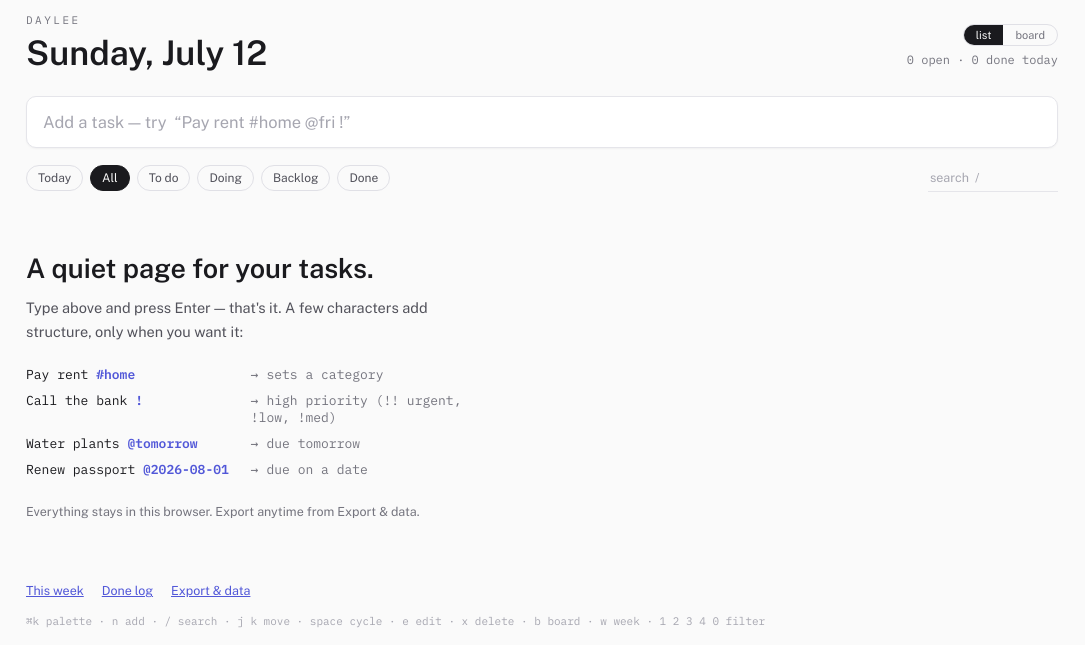
Test: status cycle › cycles todo → doing → done → todo and persists
Click the field labelled "Add a task" at (542, 122), box [26,96,1058,148]
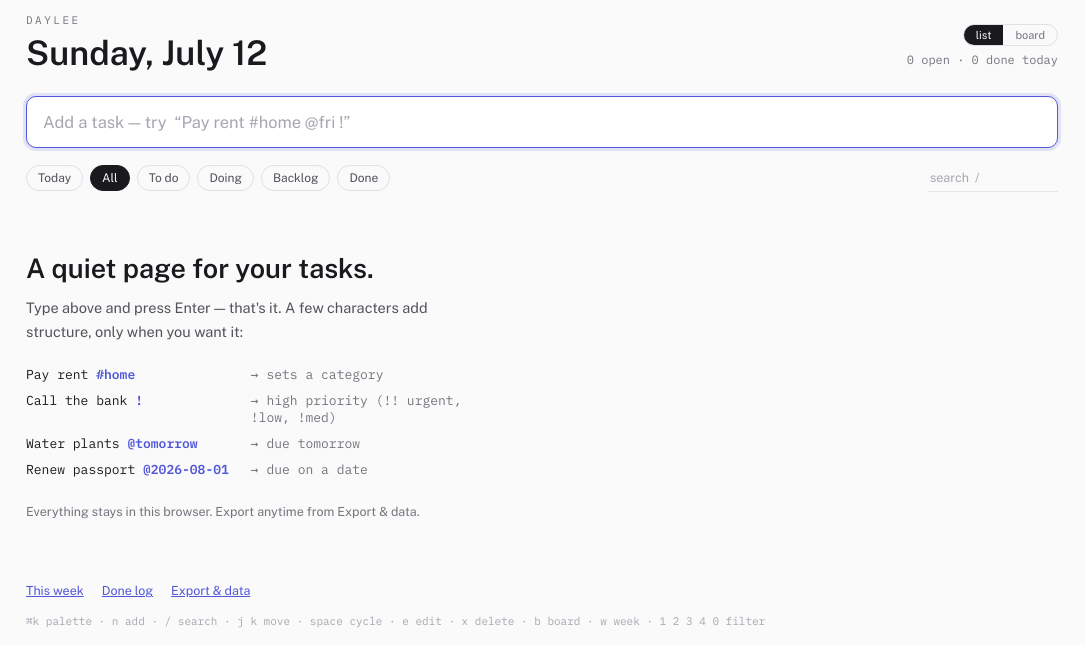
Type keys "Water plants{Enter}"
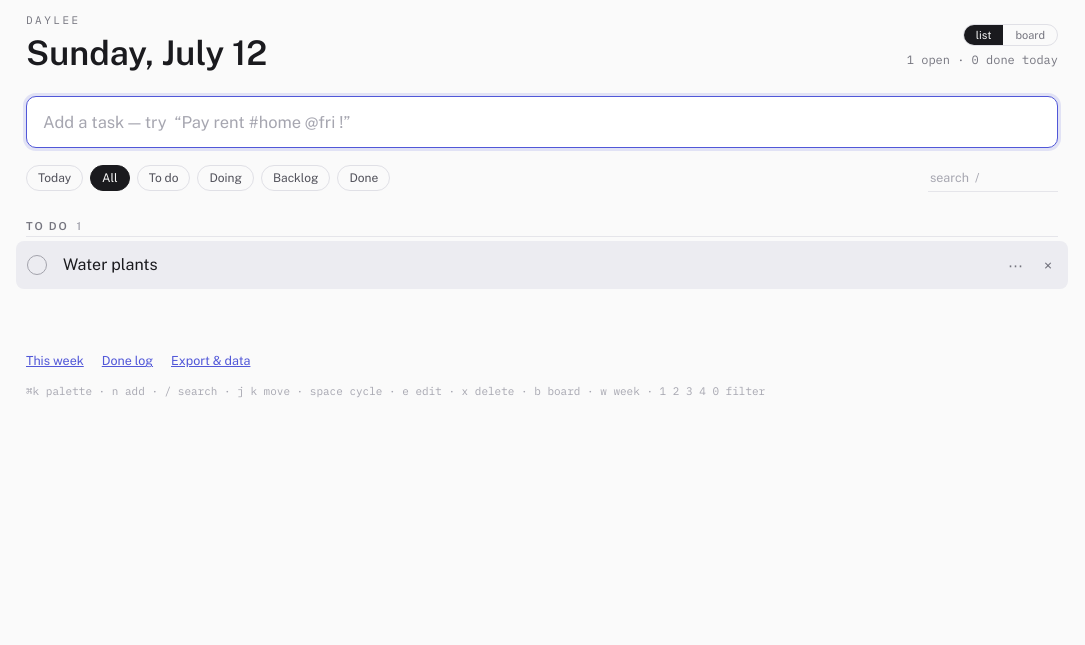
Click the button named "todo — click to mark doing" at (37, 265), box [20,248,54,282]
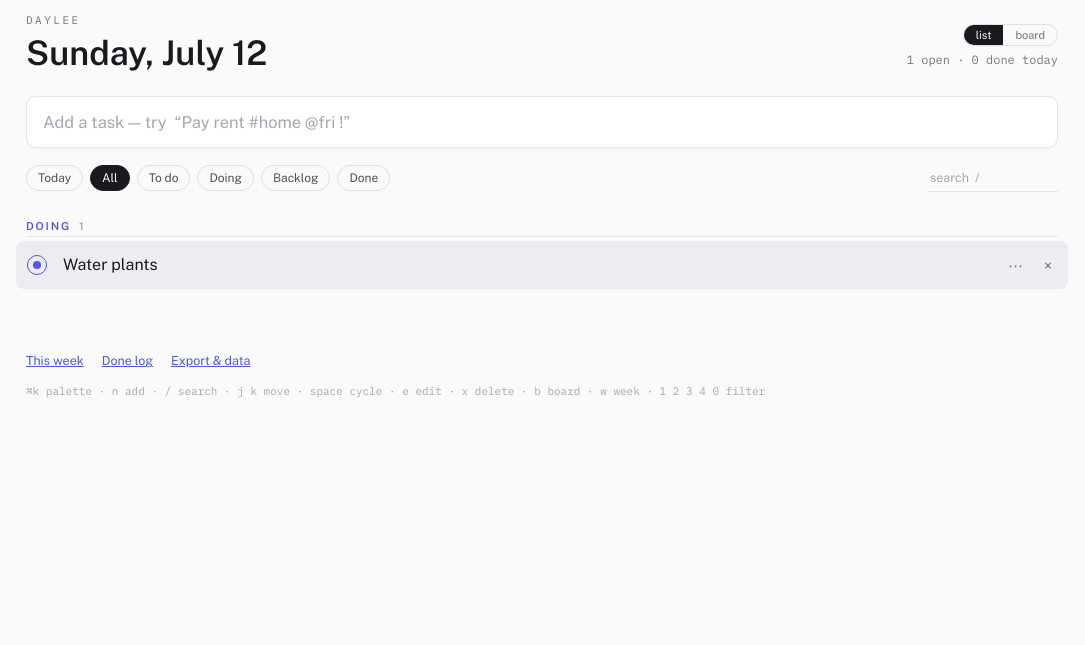
Check: the element "Doing" is shown, box [26,220,1058,289]
Click the button named "doing — click to mark done" at (37, 265), box [20,248,54,282]
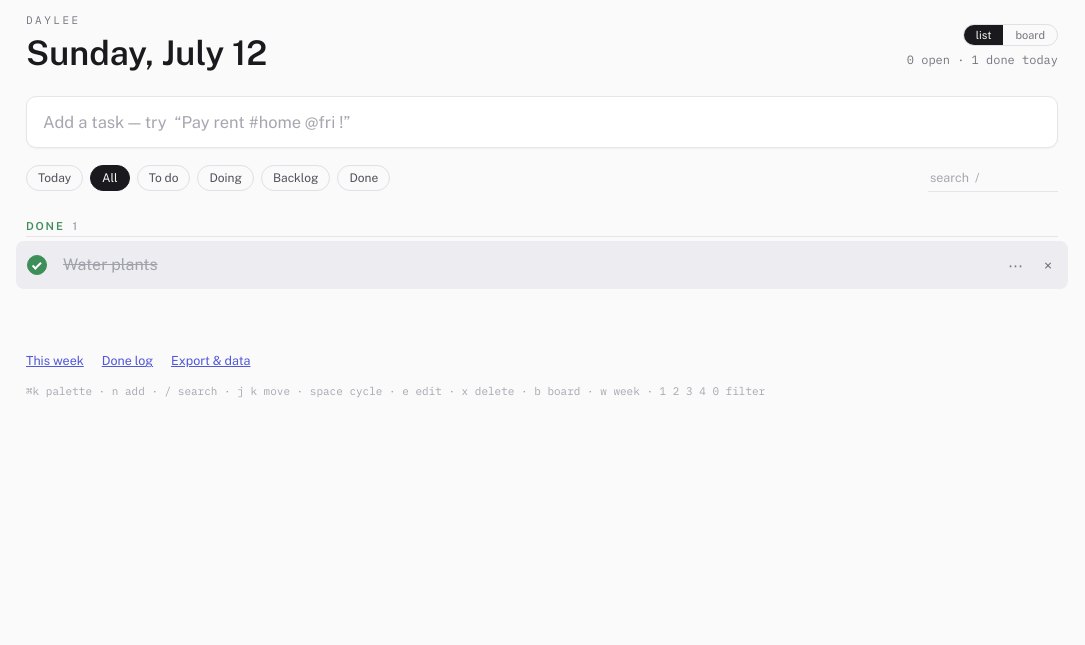
Check: the element "Done" is shown, box [26,220,1058,289]
Click the button named "done — click to mark to do" at (37, 265), box [20,248,54,282]
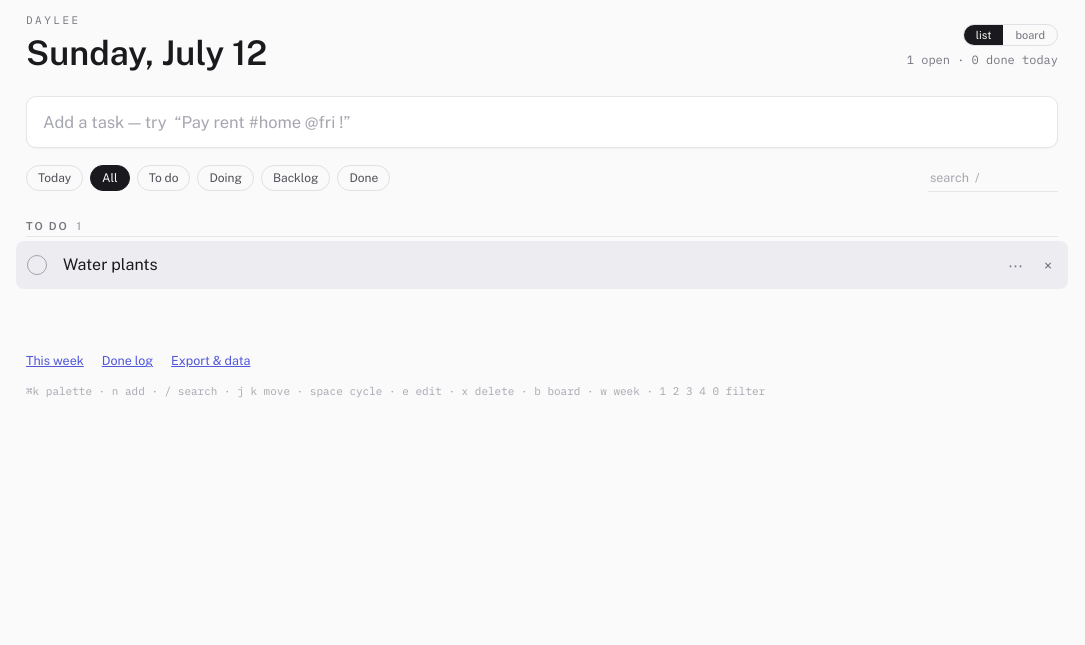
Check: the element "To do" is shown, box [26,220,1058,289]
